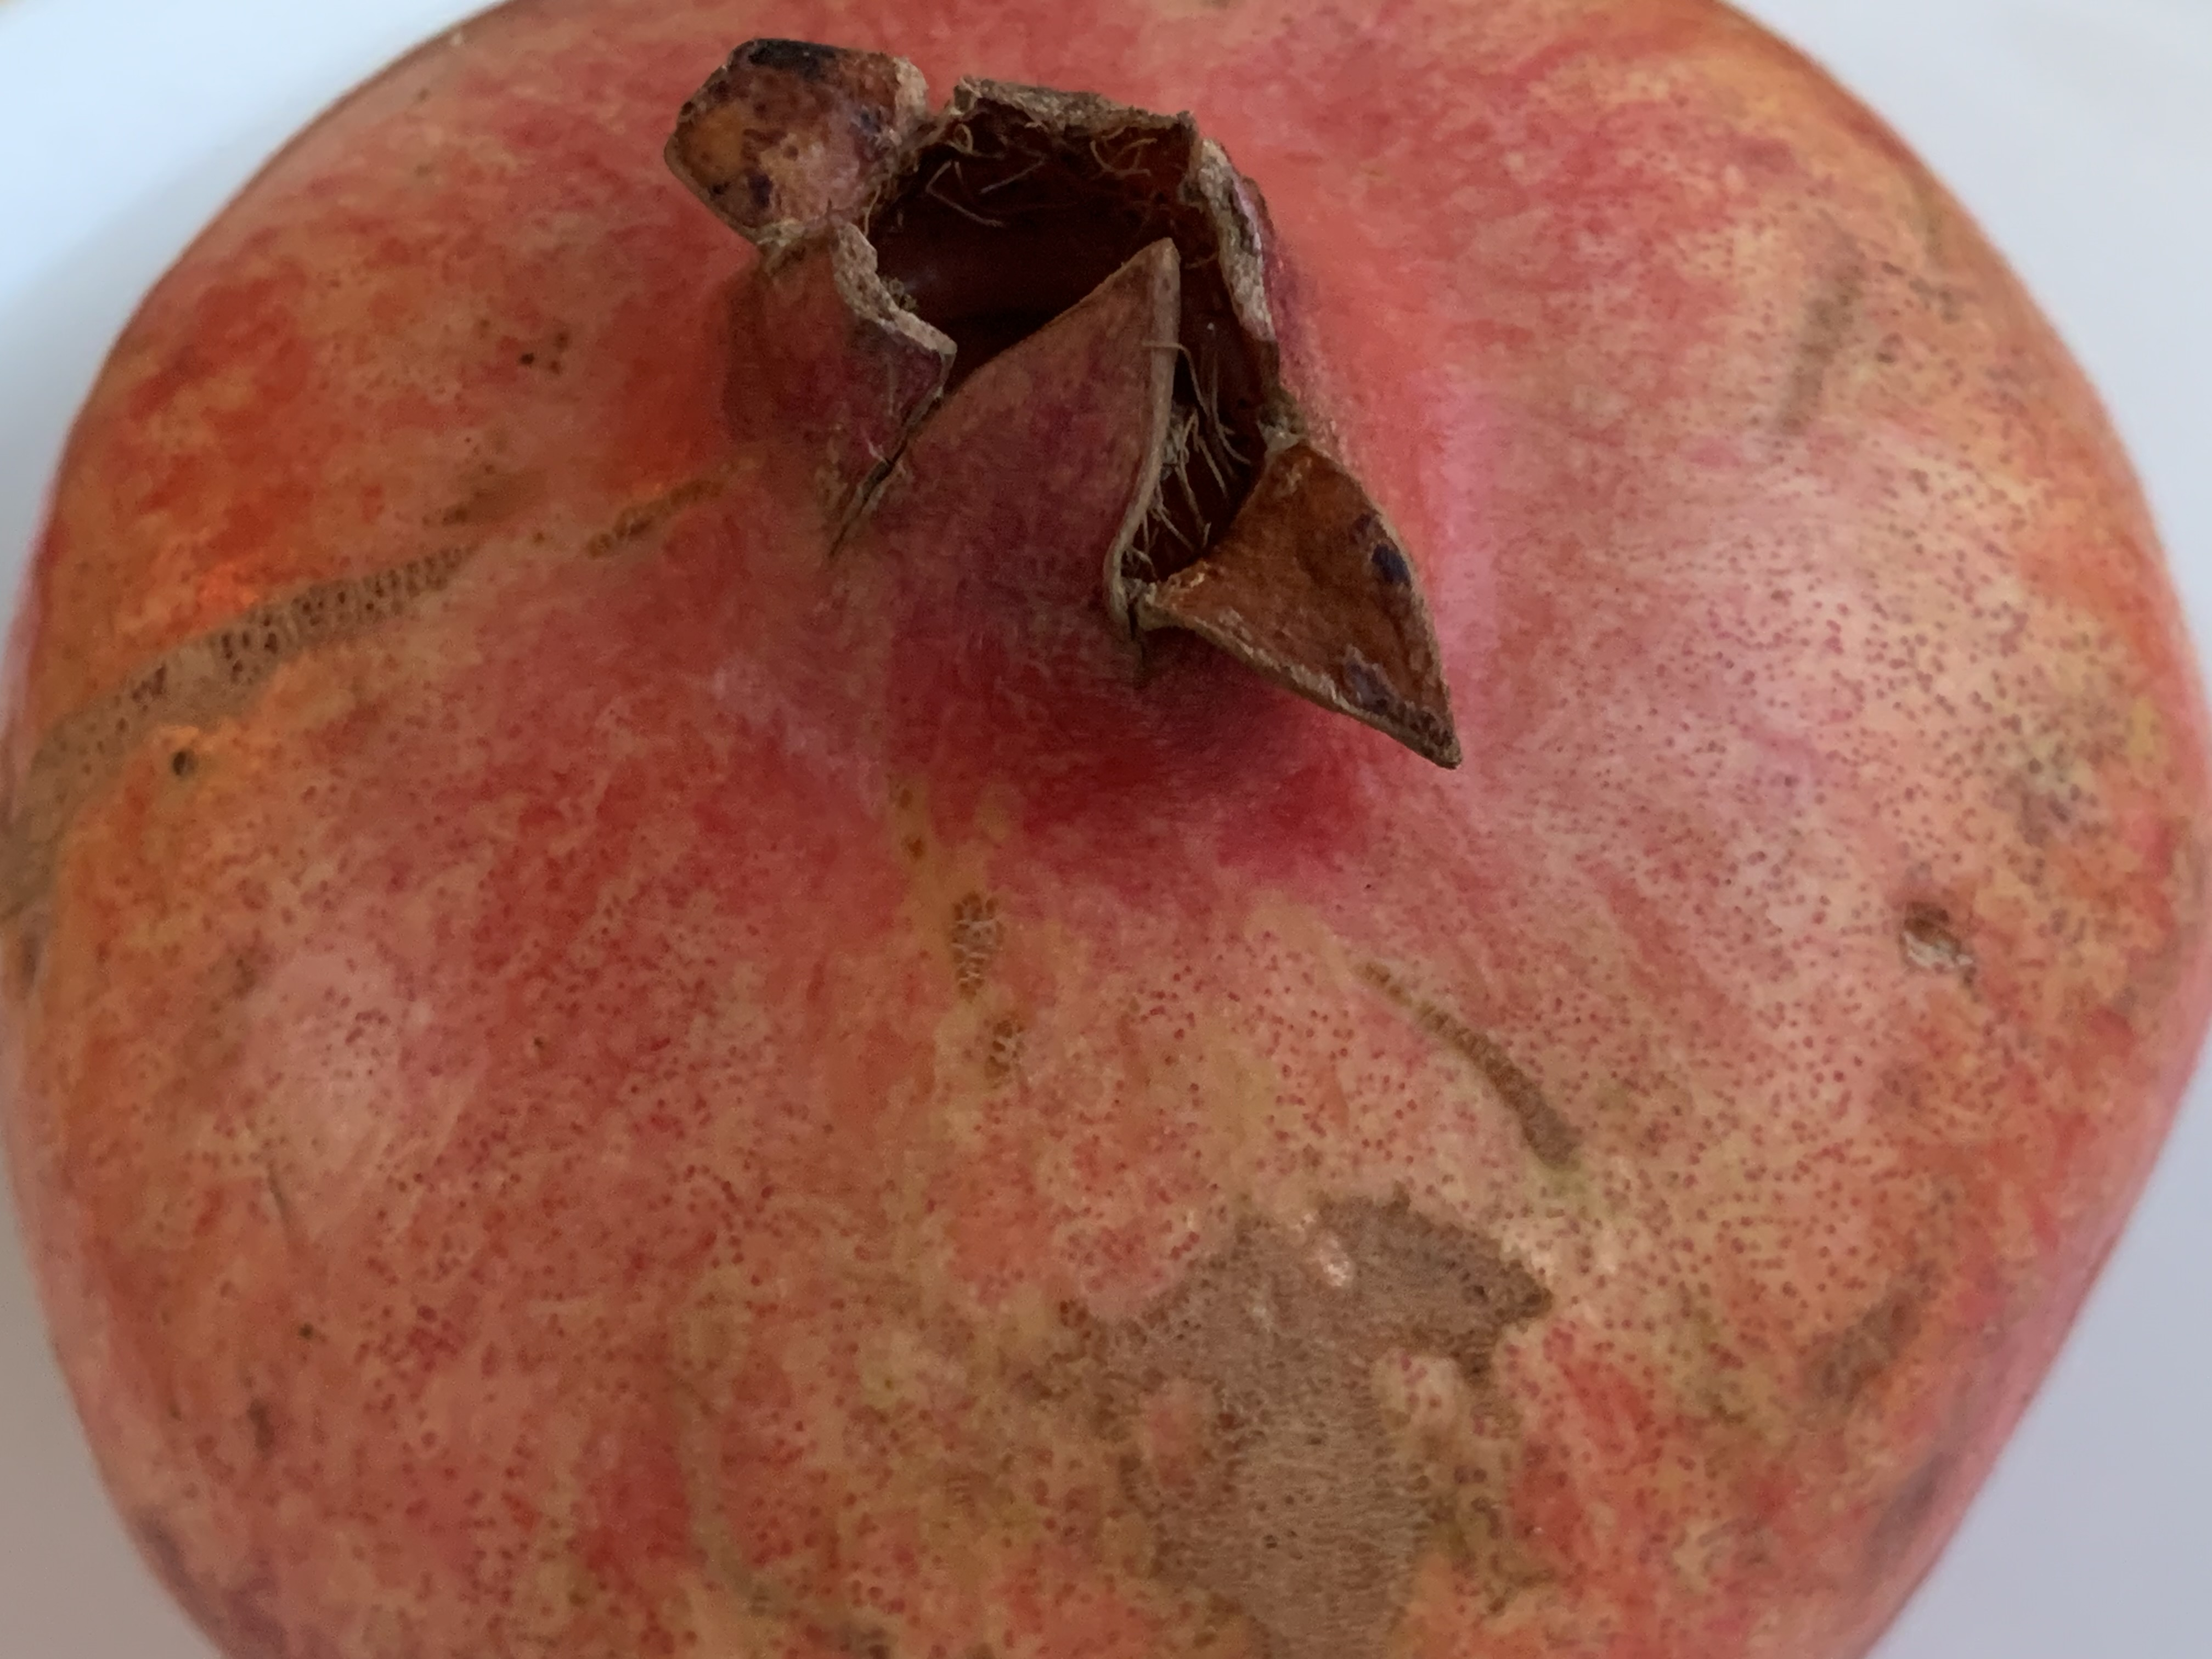Pomegranate: (12, 14, 2212, 1647)
